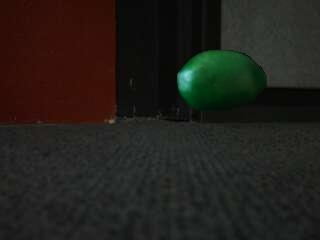Lime: (175, 48, 273, 116)
